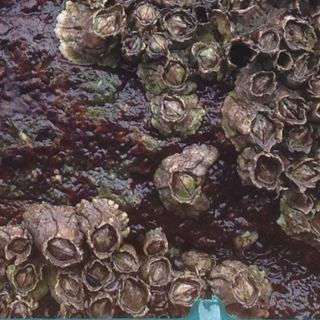Barnacle: (119, 276, 148, 314), (169, 278, 203, 309), (251, 110, 277, 146), (170, 171, 199, 203), (89, 223, 118, 254), (46, 236, 77, 264), (285, 19, 312, 51), (253, 155, 281, 185), (289, 161, 317, 189), (12, 264, 37, 295), (166, 10, 192, 37), (93, 9, 120, 35), (233, 275, 257, 304), (278, 95, 304, 121), (59, 274, 81, 304), (85, 259, 107, 289), (195, 44, 220, 69), (293, 53, 317, 79), (134, 0, 157, 27), (150, 258, 171, 287), (160, 95, 184, 120), (112, 250, 138, 272), (165, 61, 187, 87), (91, 296, 114, 319), (250, 71, 273, 94), (257, 30, 278, 52), (6, 236, 30, 255), (149, 32, 168, 56), (123, 34, 141, 53), (146, 239, 166, 254)
